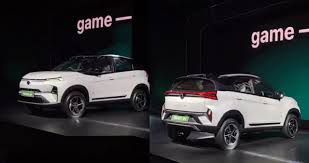Tata Nexon: (160, 70, 302, 153), (15, 52, 151, 123)
